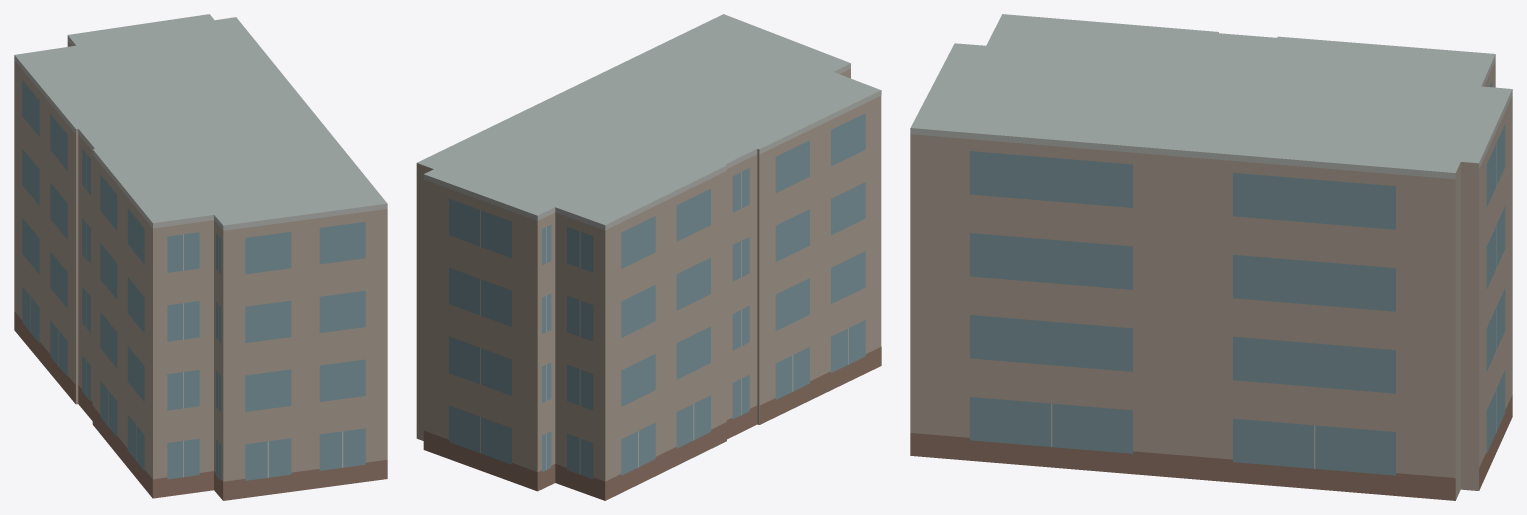
The model's file is survey-upis-32999741.glb.
3 renders of one model, left to right at view 1: azimuth 30°, elevation 25°; view 2: azimuth 150°, elevation 25°; view 3: azimuth 270°, elevation 25°, orthographic. The views are drawn at different scales.
Visible parts, largest first — view 1: survey-upis-32999741.tmp; view 2: survey-upis-32999741.tmp; view 3: survey-upis-32999741.tmp.
Boxes of the visible parts, left/top/right/bottom form: survey-upis-32999741.tmp: left=14, top=14, right=387, bottom=500; survey-upis-32999741.tmp: left=416, top=14, right=881, bottom=500; survey-upis-32999741.tmp: left=910, top=14, right=1512, bottom=500.
Size of the model in its own units: 13.36 by 12.83 by 21.37.
